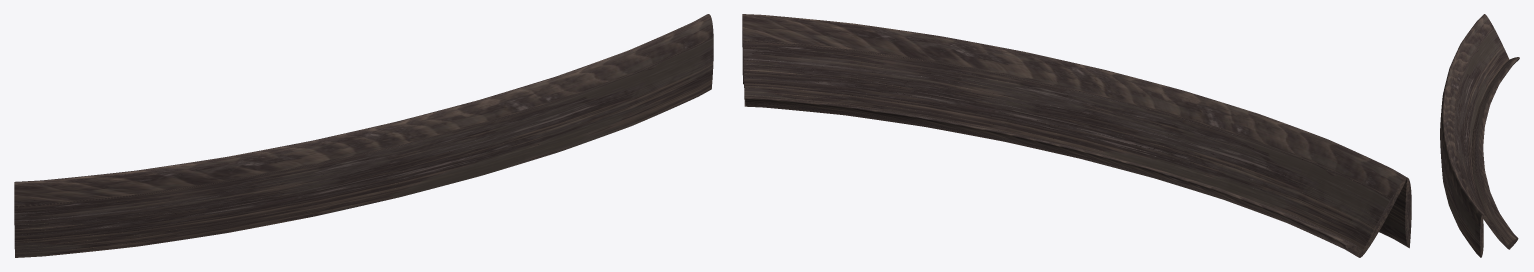
File: PlayerStand.glb
The picture shows the model from 3 angles, left to right: view 1: azimuth 30°, elevation 25°; view 2: azimuth 150°, elevation 25°; view 3: azimuth 270°, elevation 25°; orthographic projection. The views are drawn at different scales.
Parts seen in each view (by area): view 1: PlayerStand; view 2: PlayerStand; view 3: PlayerStand.
Part boxes in pixels (x1=…): PlayerStand: x1=14, y1=14, x2=713, y2=257; PlayerStand: x1=742, y1=14, x2=1411, y2=257; PlayerStand: x1=1440, y1=14, x2=1519, y2=257.
Bounding box in the file's own units: 8.85 × 0.9153 × 1.48.
1 material, 1 textured.
